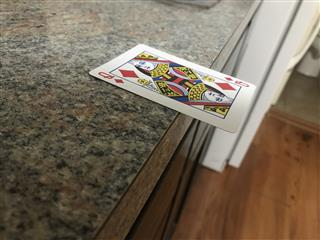QueenOfDiamonds: (87, 43, 257, 134)
